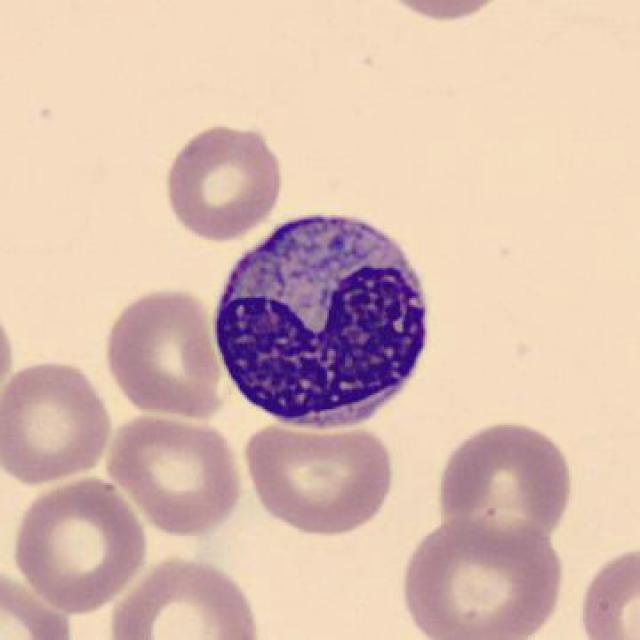RBC: (396, 513, 569, 640), (430, 414, 578, 556), (9, 476, 151, 617), (238, 416, 396, 540), (100, 280, 228, 425), (105, 414, 249, 538), (158, 118, 286, 243), (0, 354, 116, 490), (105, 550, 265, 640), (574, 543, 638, 640), (0, 564, 80, 640), (373, 0, 510, 26)
